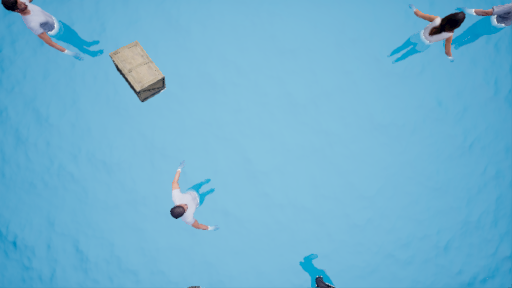person: (2, 1, 106, 65), (164, 164, 229, 237), (392, 3, 457, 71)
